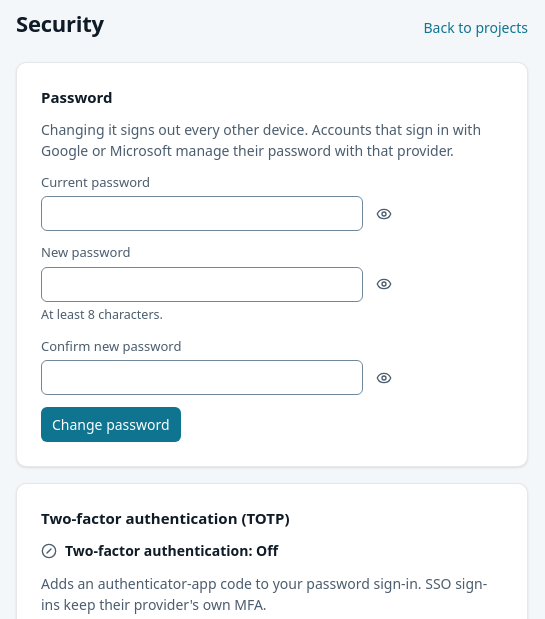
Test: a mismatched confirmation never reaches the server
The image size is (545, 619).
Type "old-password-1" into the password field labelled "Current password".
click(202, 214); type("old-password-1")  # box [41,196,363,231]
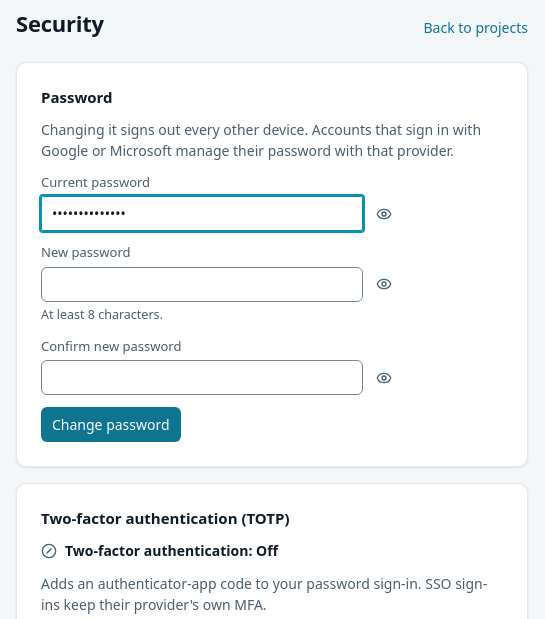
Type "new-password-22" into the password field labelled "New password".
click(202, 284); type("new-password-22")  # box [41,267,363,302]
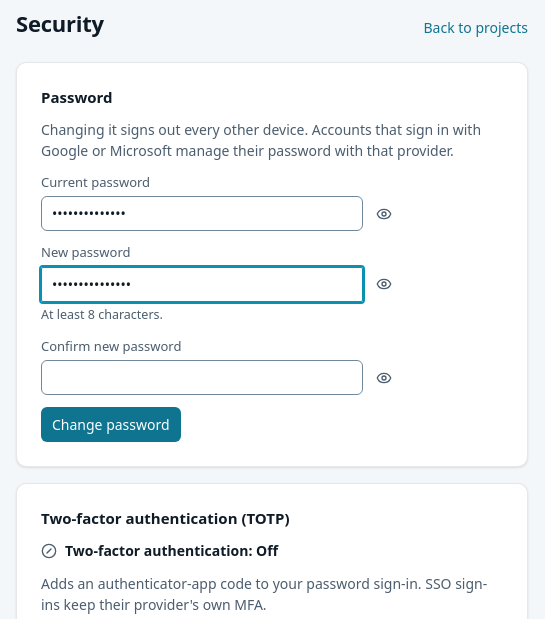
Type "new-password-23" into the password field labelled "Confirm new password".
click(202, 378); type("new-password-23")  # box [41,360,363,395]
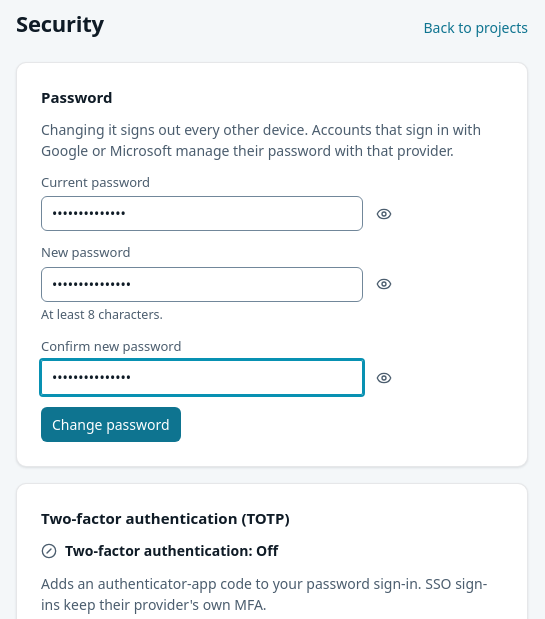
Click the button "Change password".
click(111, 424)  # box [41,407,181,442]
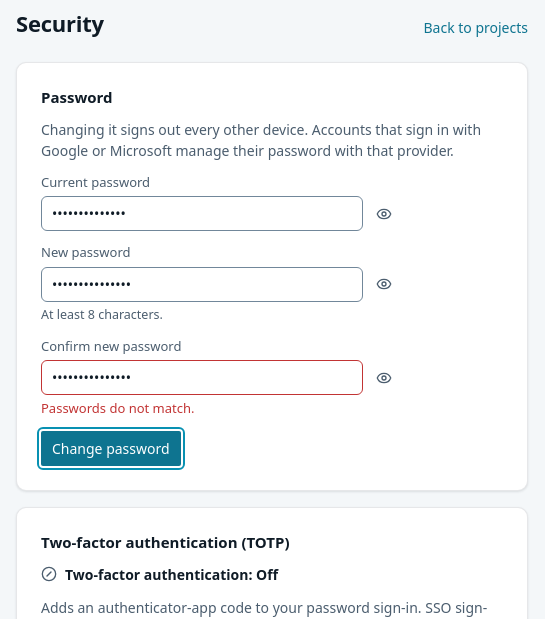
Now the text "Passwords do not match." is shown, box [41,399,194,417]
